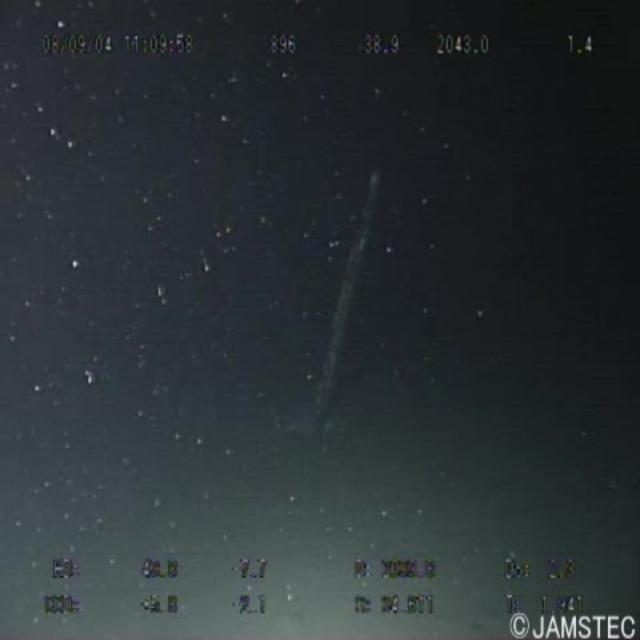Metal: (304, 149, 391, 457)
